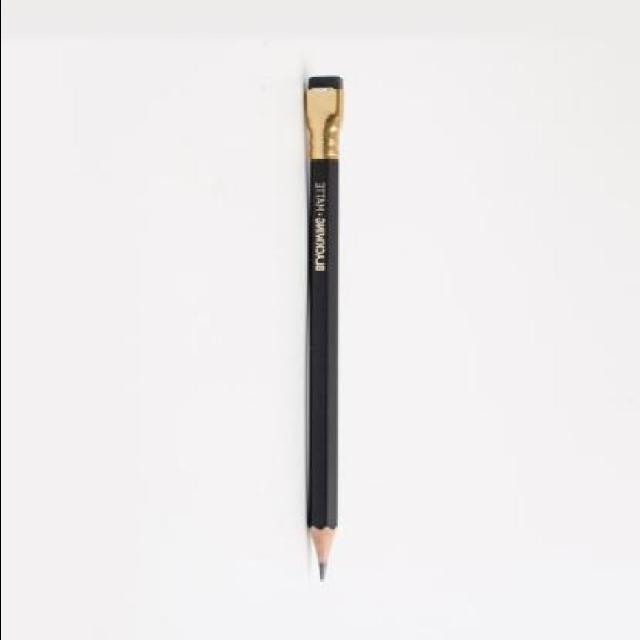pencil: (301, 482, 353, 588)
